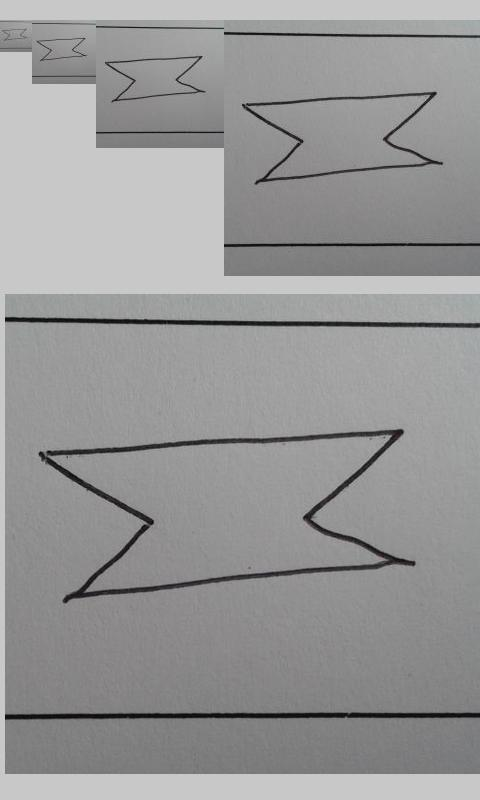edit_text: (34, 428, 411, 602), (242, 91, 444, 185), (104, 56, 205, 102), (36, 37, 88, 61), (2, 28, 28, 41)
